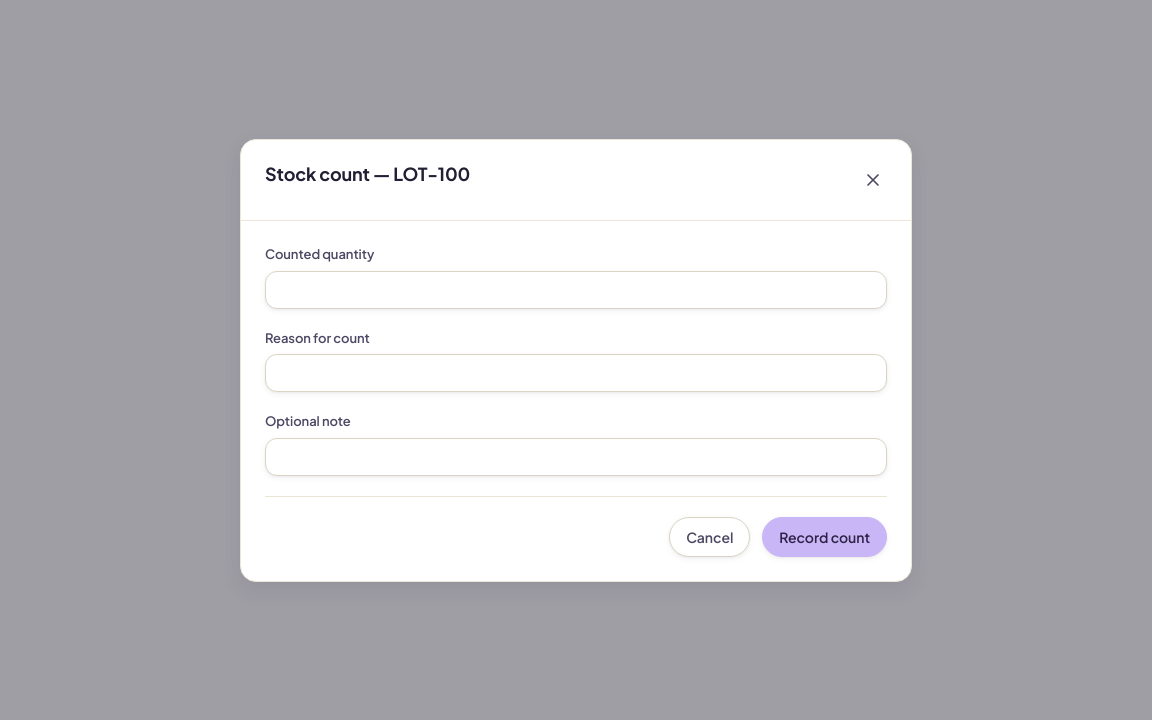
Test: CountBatchModal › renders backend batch errors
Type "20" into the number field labelled "Counted quantity" at {"x": 576, "y": 289}, box [265,270,887,308]
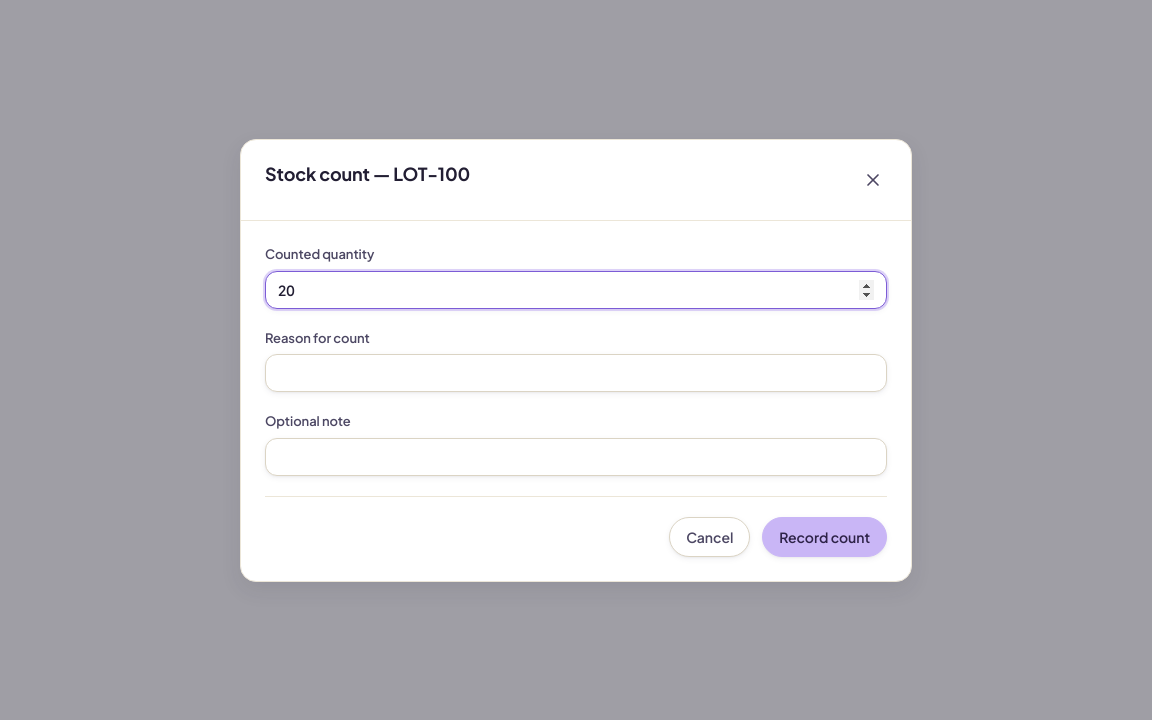
Click the button "Record count" at {"x": 825, "y": 536}, box [762,516,887,556]
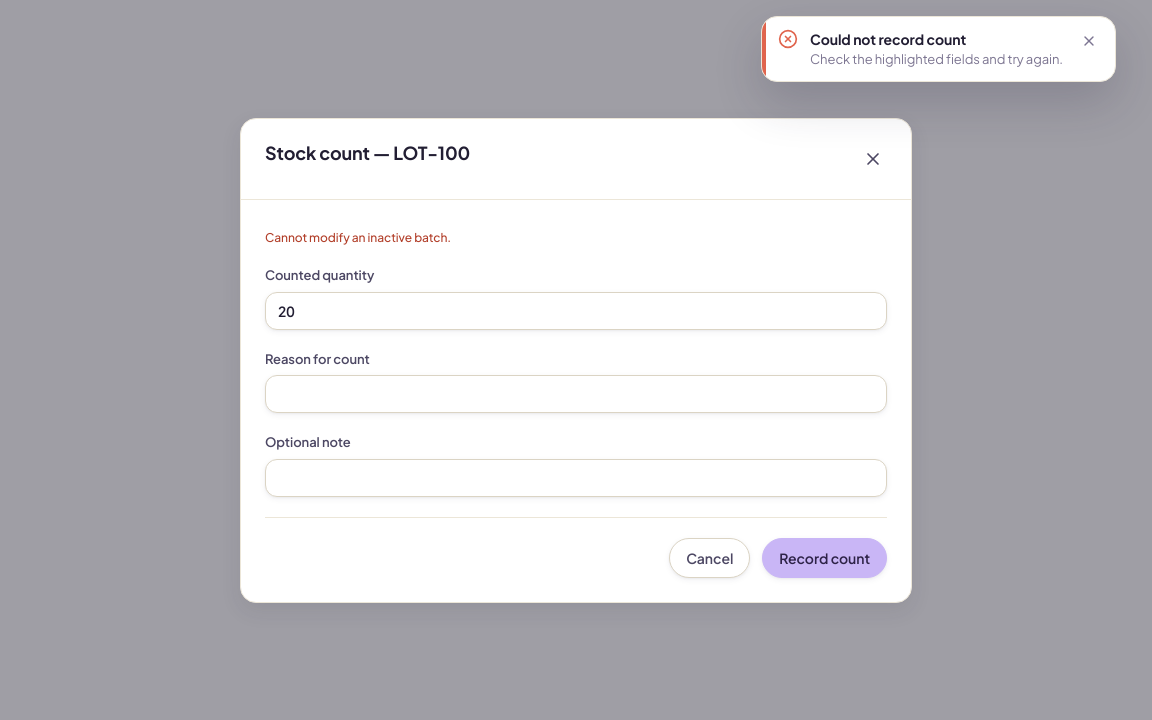
Expected: the list item "Cannot modify an inactive batch." is shown, [265,230,451,245]
